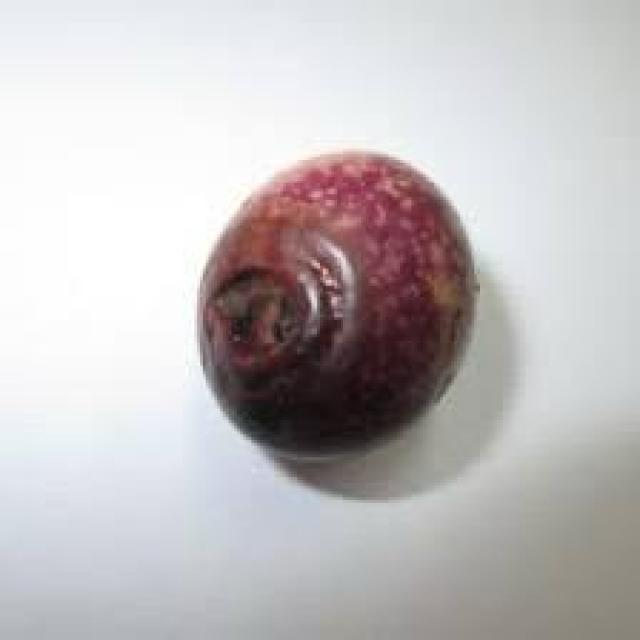Olive Fruit Fly: (200, 154, 474, 451)
